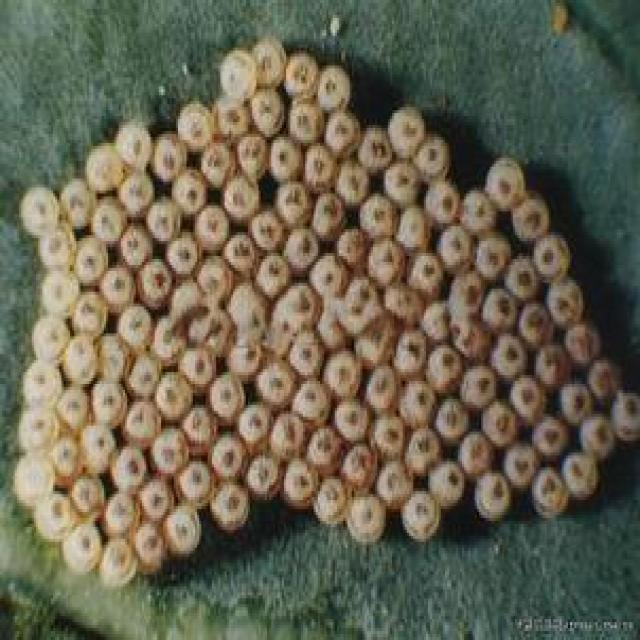armyworm: (31, 85, 603, 526)
